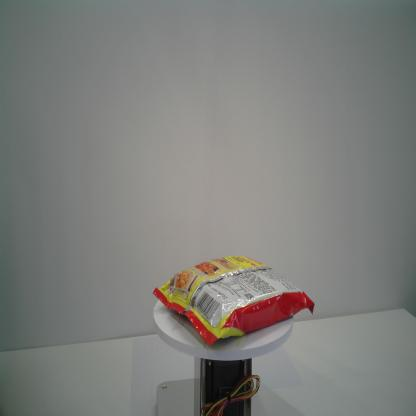Instant Noodles: (152, 255, 316, 348)
